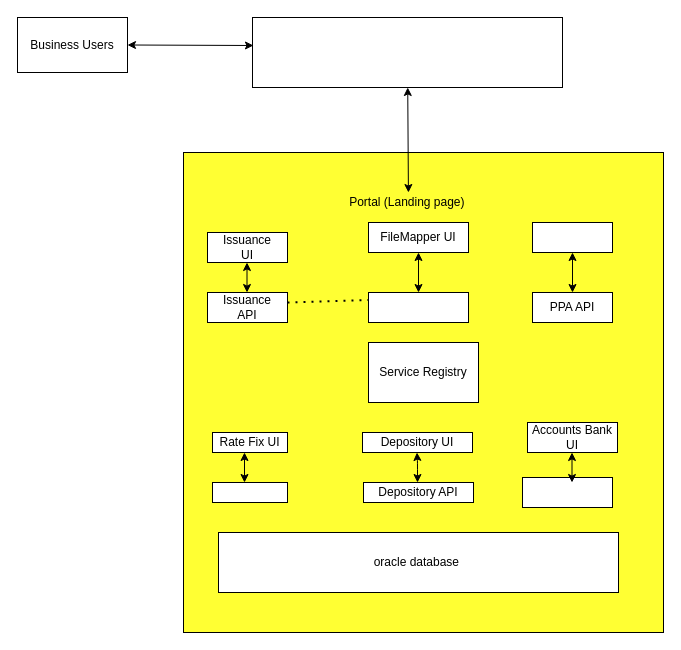
This 681x650 diagram has some shape labels left out. Here are the shapes that lost their labels. From the top down, the centre of each, then its label:
At point 407,52: "CDS".
At point 572,237: "PPA UI".
At point 418,307: "FileMapper API".
At point 250,492: "Rate Fix API".
At point 567,492: "Accounts Bank API".
